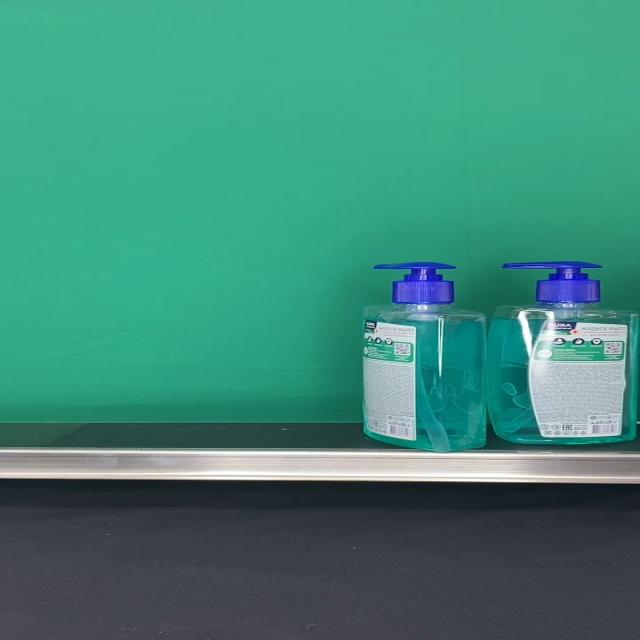Bottle: (487, 261, 639, 444), (360, 262, 487, 453)
Cap: (501, 261, 601, 303), (374, 263, 455, 304)
